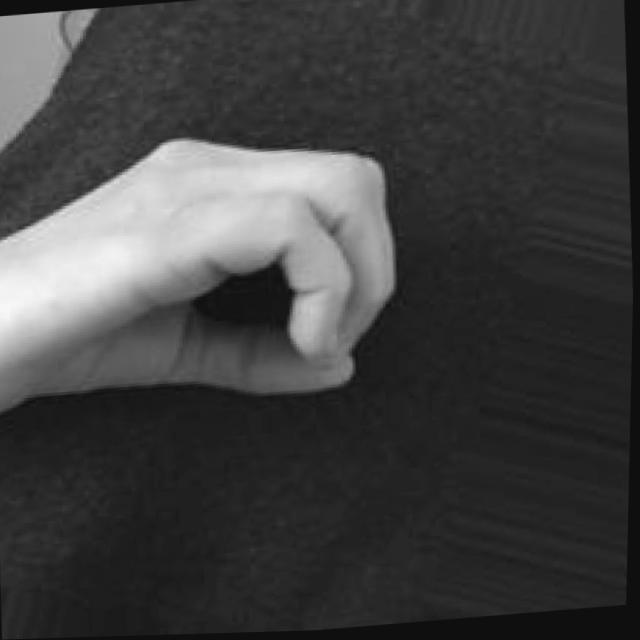O: (26, 114, 414, 440)
